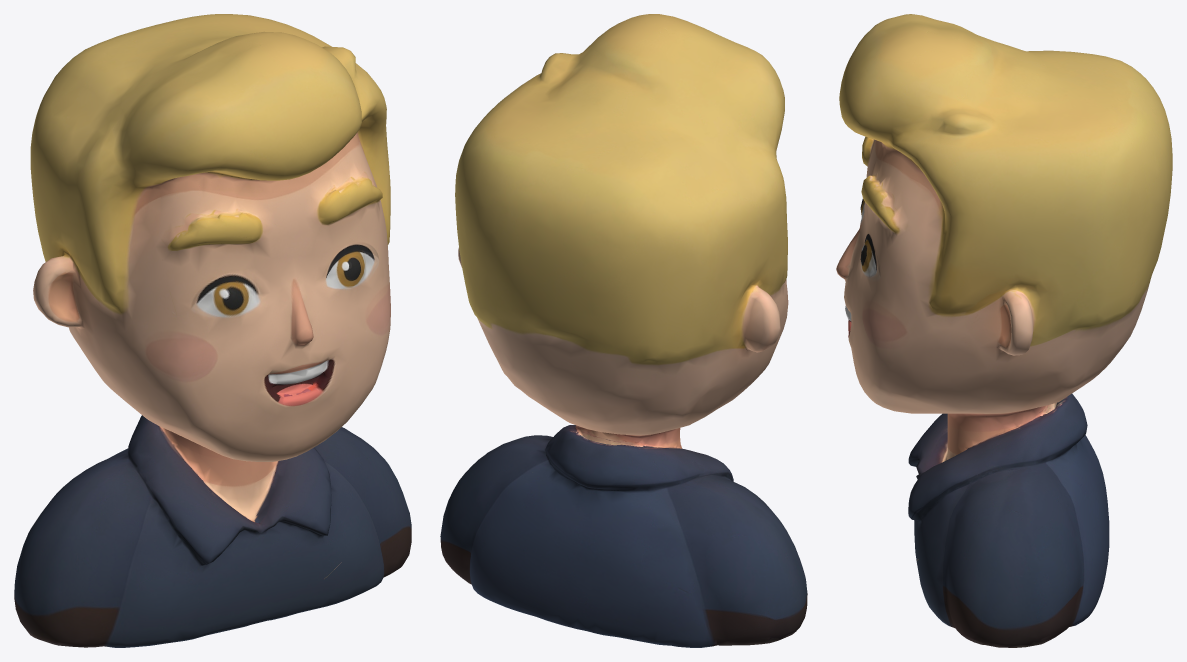
The model's file is onur.glb.
3 renders of one model, left to right at view 1: azimuth 30°, elevation 25°; view 2: azimuth 150°, elevation 25°; view 3: azimuth 270°, elevation 25°, orthographic. The views are drawn at different scales.
Visible parts, largest first — view 1: Object_4; view 2: Object_4; view 3: Object_4.
Boxes of the visible parts, x1,y1,x2,y2 form: Object_4: (14, 14, 411, 647); Object_4: (440, 14, 807, 647); Object_4: (836, 14, 1172, 647).
Size of the model in its own units: 1.3 by 1.91 by 1.08.
Materials: 1 (1 with a texture image).
